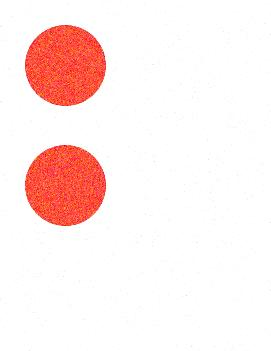B: (22, 19, 257, 337)
